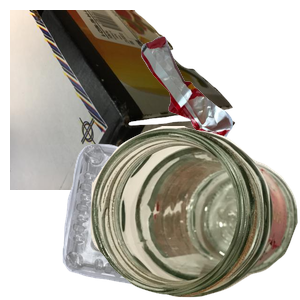cardboard: (10, 10, 238, 190)
glass: (90, 126, 300, 300)
plastic: (60, 141, 263, 300)
trash: (139, 34, 300, 167)
